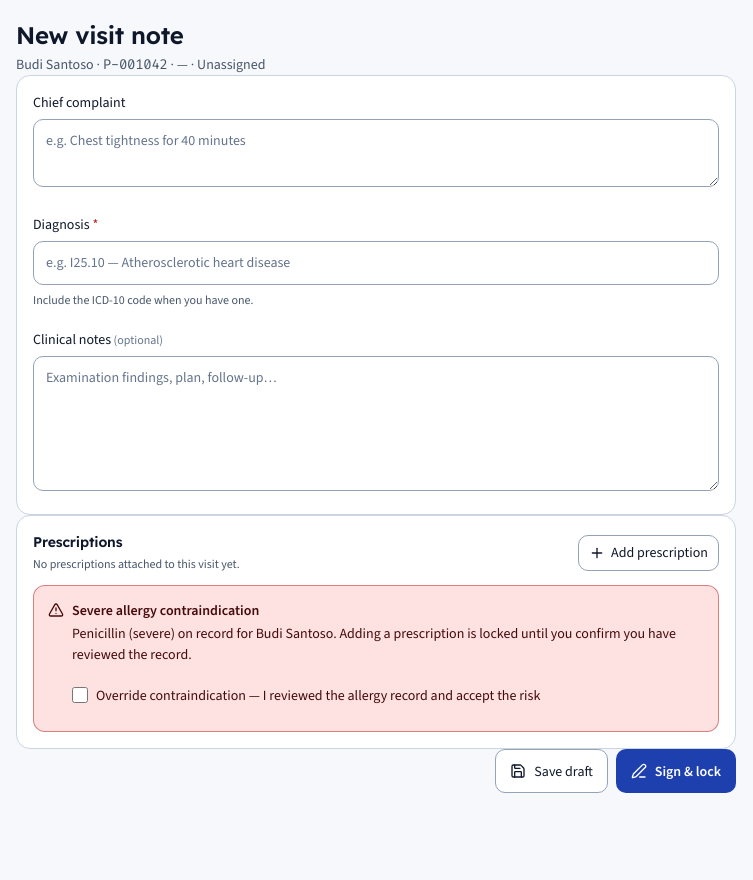
Scenario: MedicalRecordEntryPage (#6) › shows the severe-allergy banner and keeps the prescription form locked until override
Expected: the message with test id "allergy-banner" shows "Penicillin", [72,624,175,643]
Expected: the message with test id "allergy-banner" shows "Severe", [72,601,259,620]
Click the button "Add prescription" at (649, 553), box [578,535,719,571]
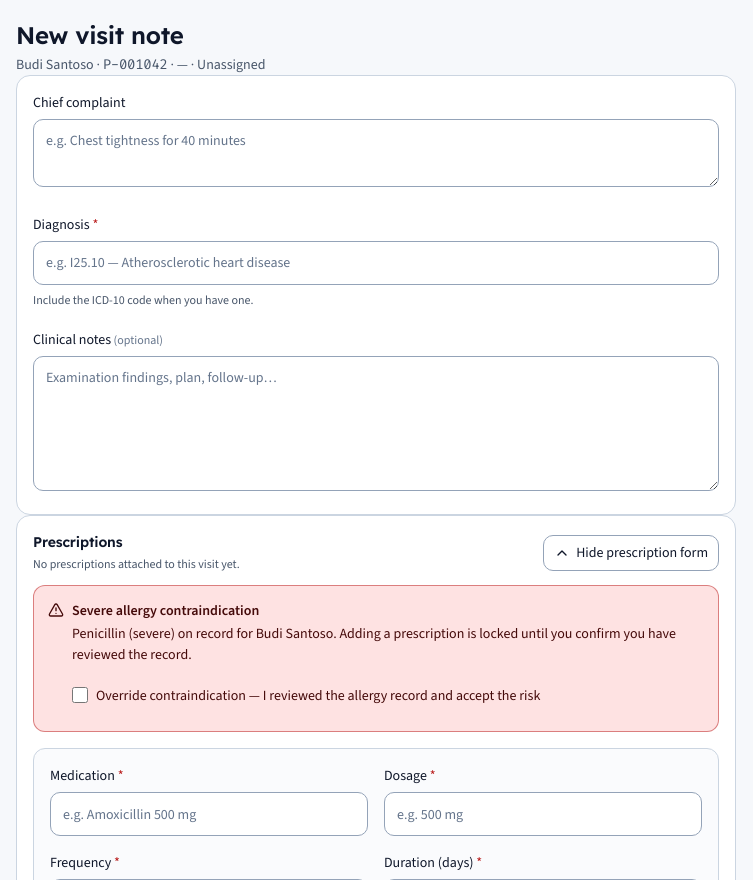
Type "Amoxicillin 500 mg" into the field labelled "Medication *" at (209, 814), box [50,792,368,836]
Type "500 mg" into the field labelled "Dosage *" at (543, 814), box [384,792,702,836]
(page scrolled)
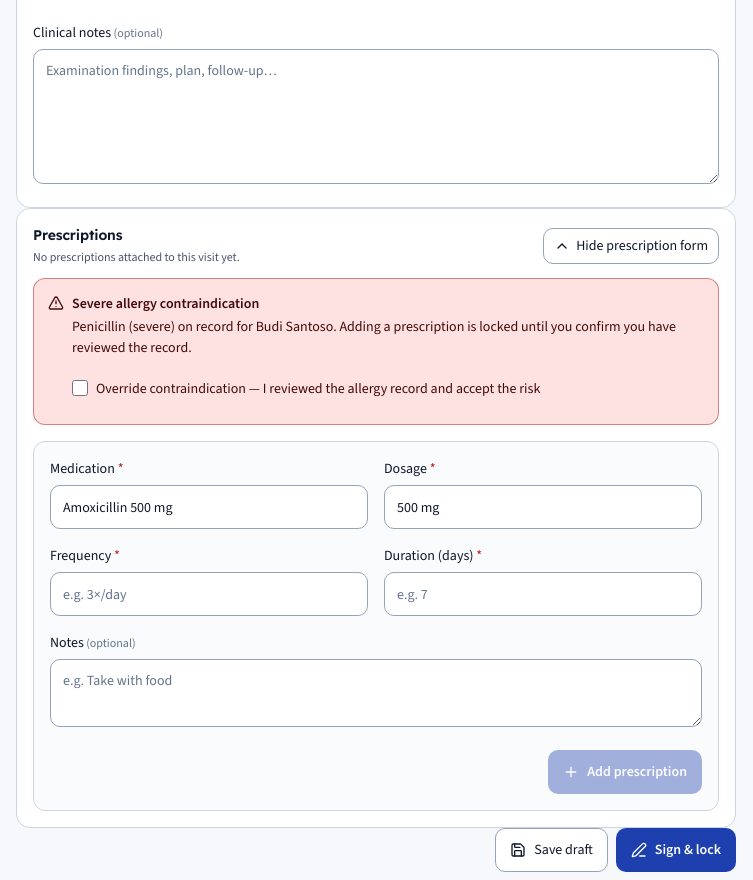
Type "3×/day" into the field labelled "Frequency *" at (209, 594), box [50,572,368,616]
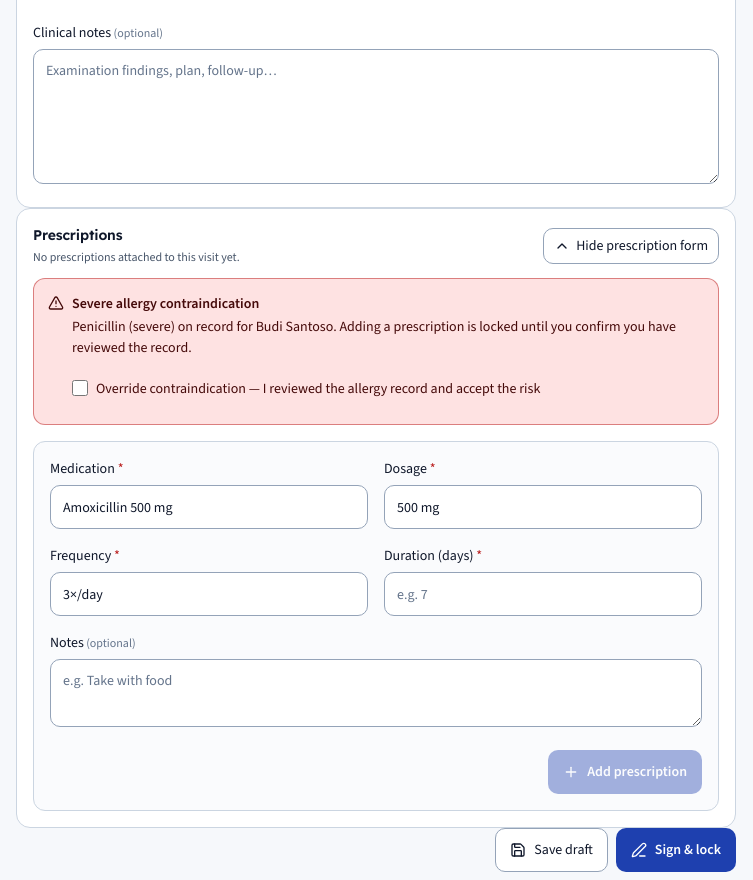
Type "7" into the number field labelled "Duration (days) *" at (543, 594), box [384,572,702,616]
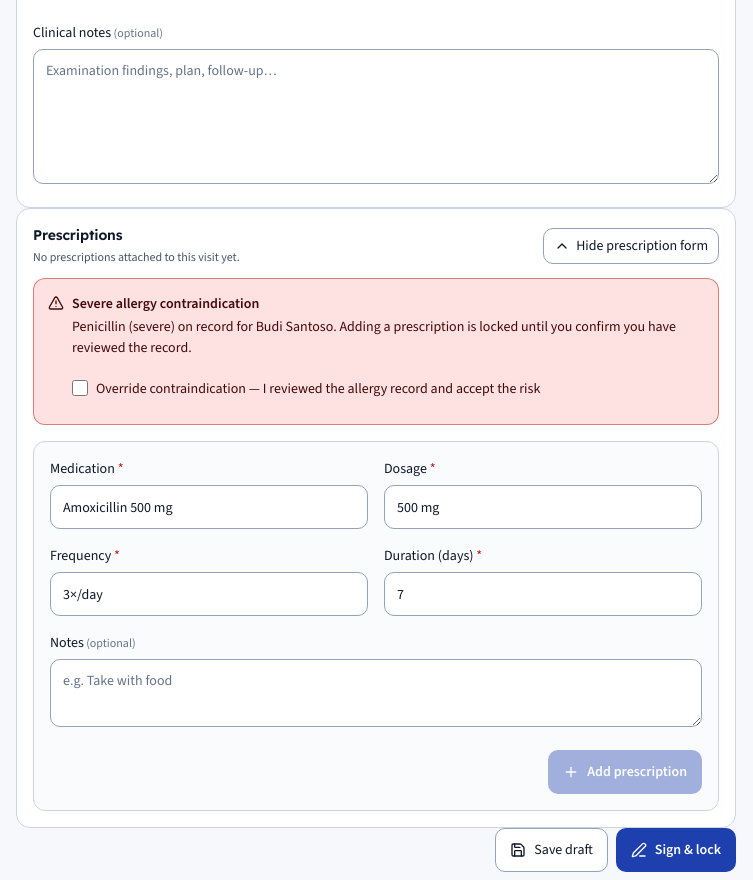
Click the checkbox labelled "Override contraindication" at (80, 388), box [72,380,88,396]
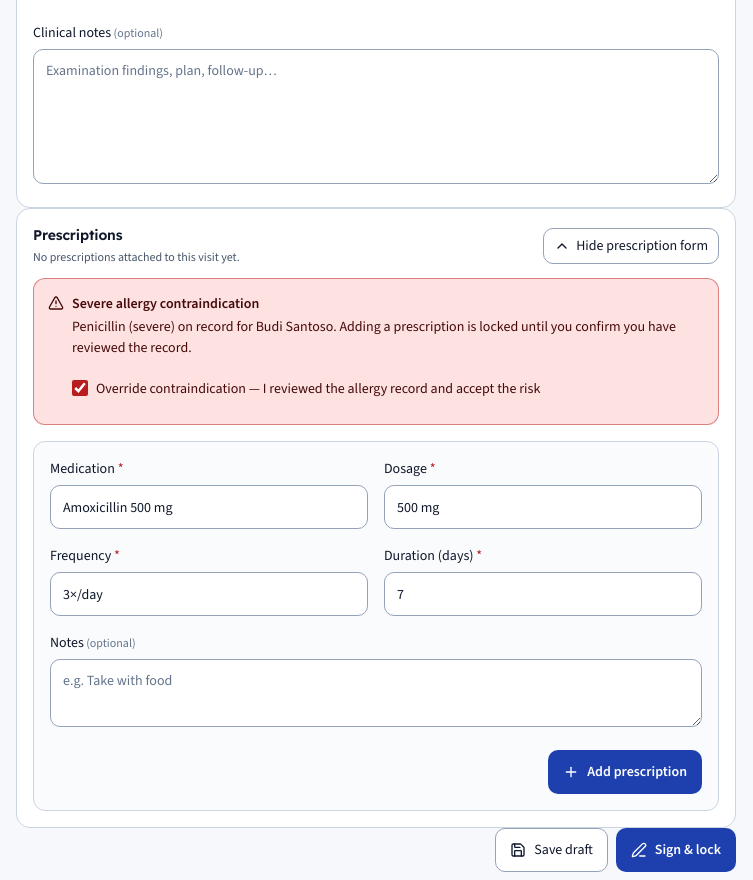
Click the button "Add prescription" at (625, 772), box [548,750,702,794]
(page scrolled)
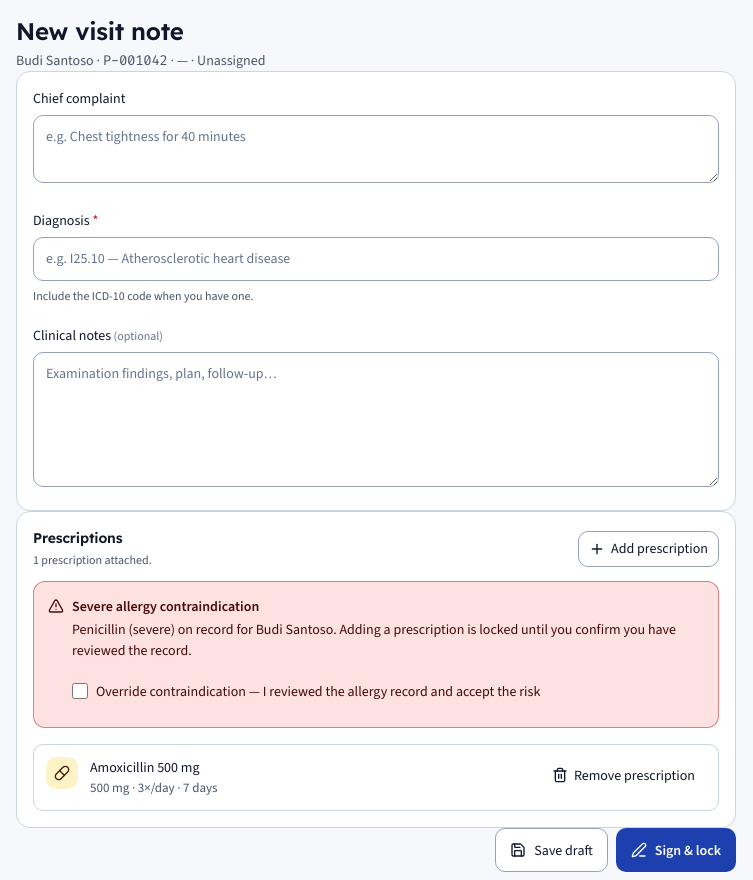
Expected: the text "Amoxicillin 500 mg" is shown, [90,758,200,777]
